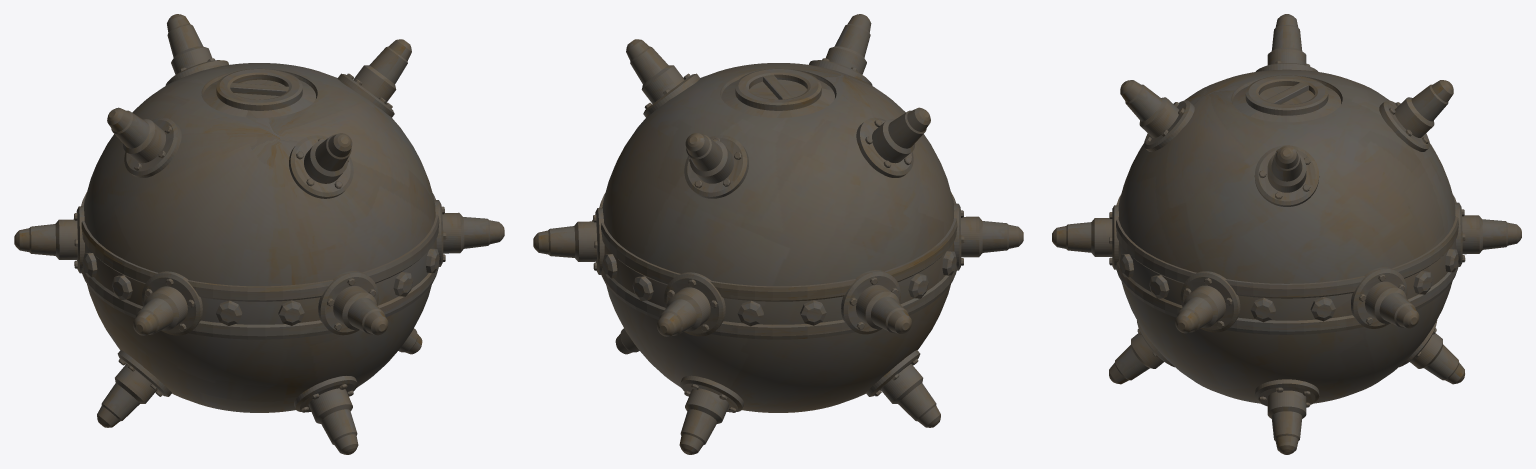
File: mine.glb
3 renders of one model, left to right at view 1: azimuth 30°, elevation 25°; view 2: azimuth 150°, elevation 25°; view 3: azimuth 270°, elevation 25°, orthographic. The views are drawn at different scales.
Visible parts, largest first — view 1: Object_2, Object_6, Object_3, Object_5, Object_4; view 2: Object_2, Object_6, Object_3, Object_5, Object_4; view 3: Object_2, Object_6, Object_3, Object_4, Object_5.
Boxes of the visible parts, bbox=[...] form: Object_2: bbox=[83, 63, 436, 412]; Object_6: bbox=[14, 200, 504, 335]; Object_3: bbox=[81, 192, 439, 339]; Object_5: bbox=[97, 39, 422, 427]; Object_4: bbox=[165, 14, 358, 454]; Object_2: bbox=[602, 63, 954, 412]; Object_6: bbox=[533, 203, 1023, 336]; Object_3: bbox=[599, 192, 957, 339]; Object_5: bbox=[615, 39, 940, 427]; Object_4: bbox=[679, 14, 872, 454]; Object_2: bbox=[1118, 69, 1456, 403]; Object_6: bbox=[1052, 202, 1521, 333]; Object_3: bbox=[1116, 195, 1458, 334]; Object_4: bbox=[1109, 80, 1464, 384]; Object_5: bbox=[1254, 14, 1319, 454].
Bounding box in the file's own units: 1.22 × 0.9719 × 1.37.
Materials: 1 (1 with a texture image).
